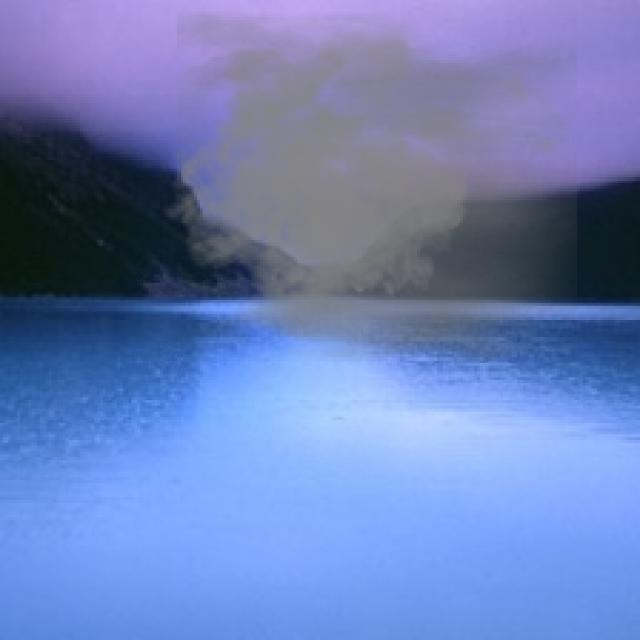smoke: (163, 11, 577, 363)
